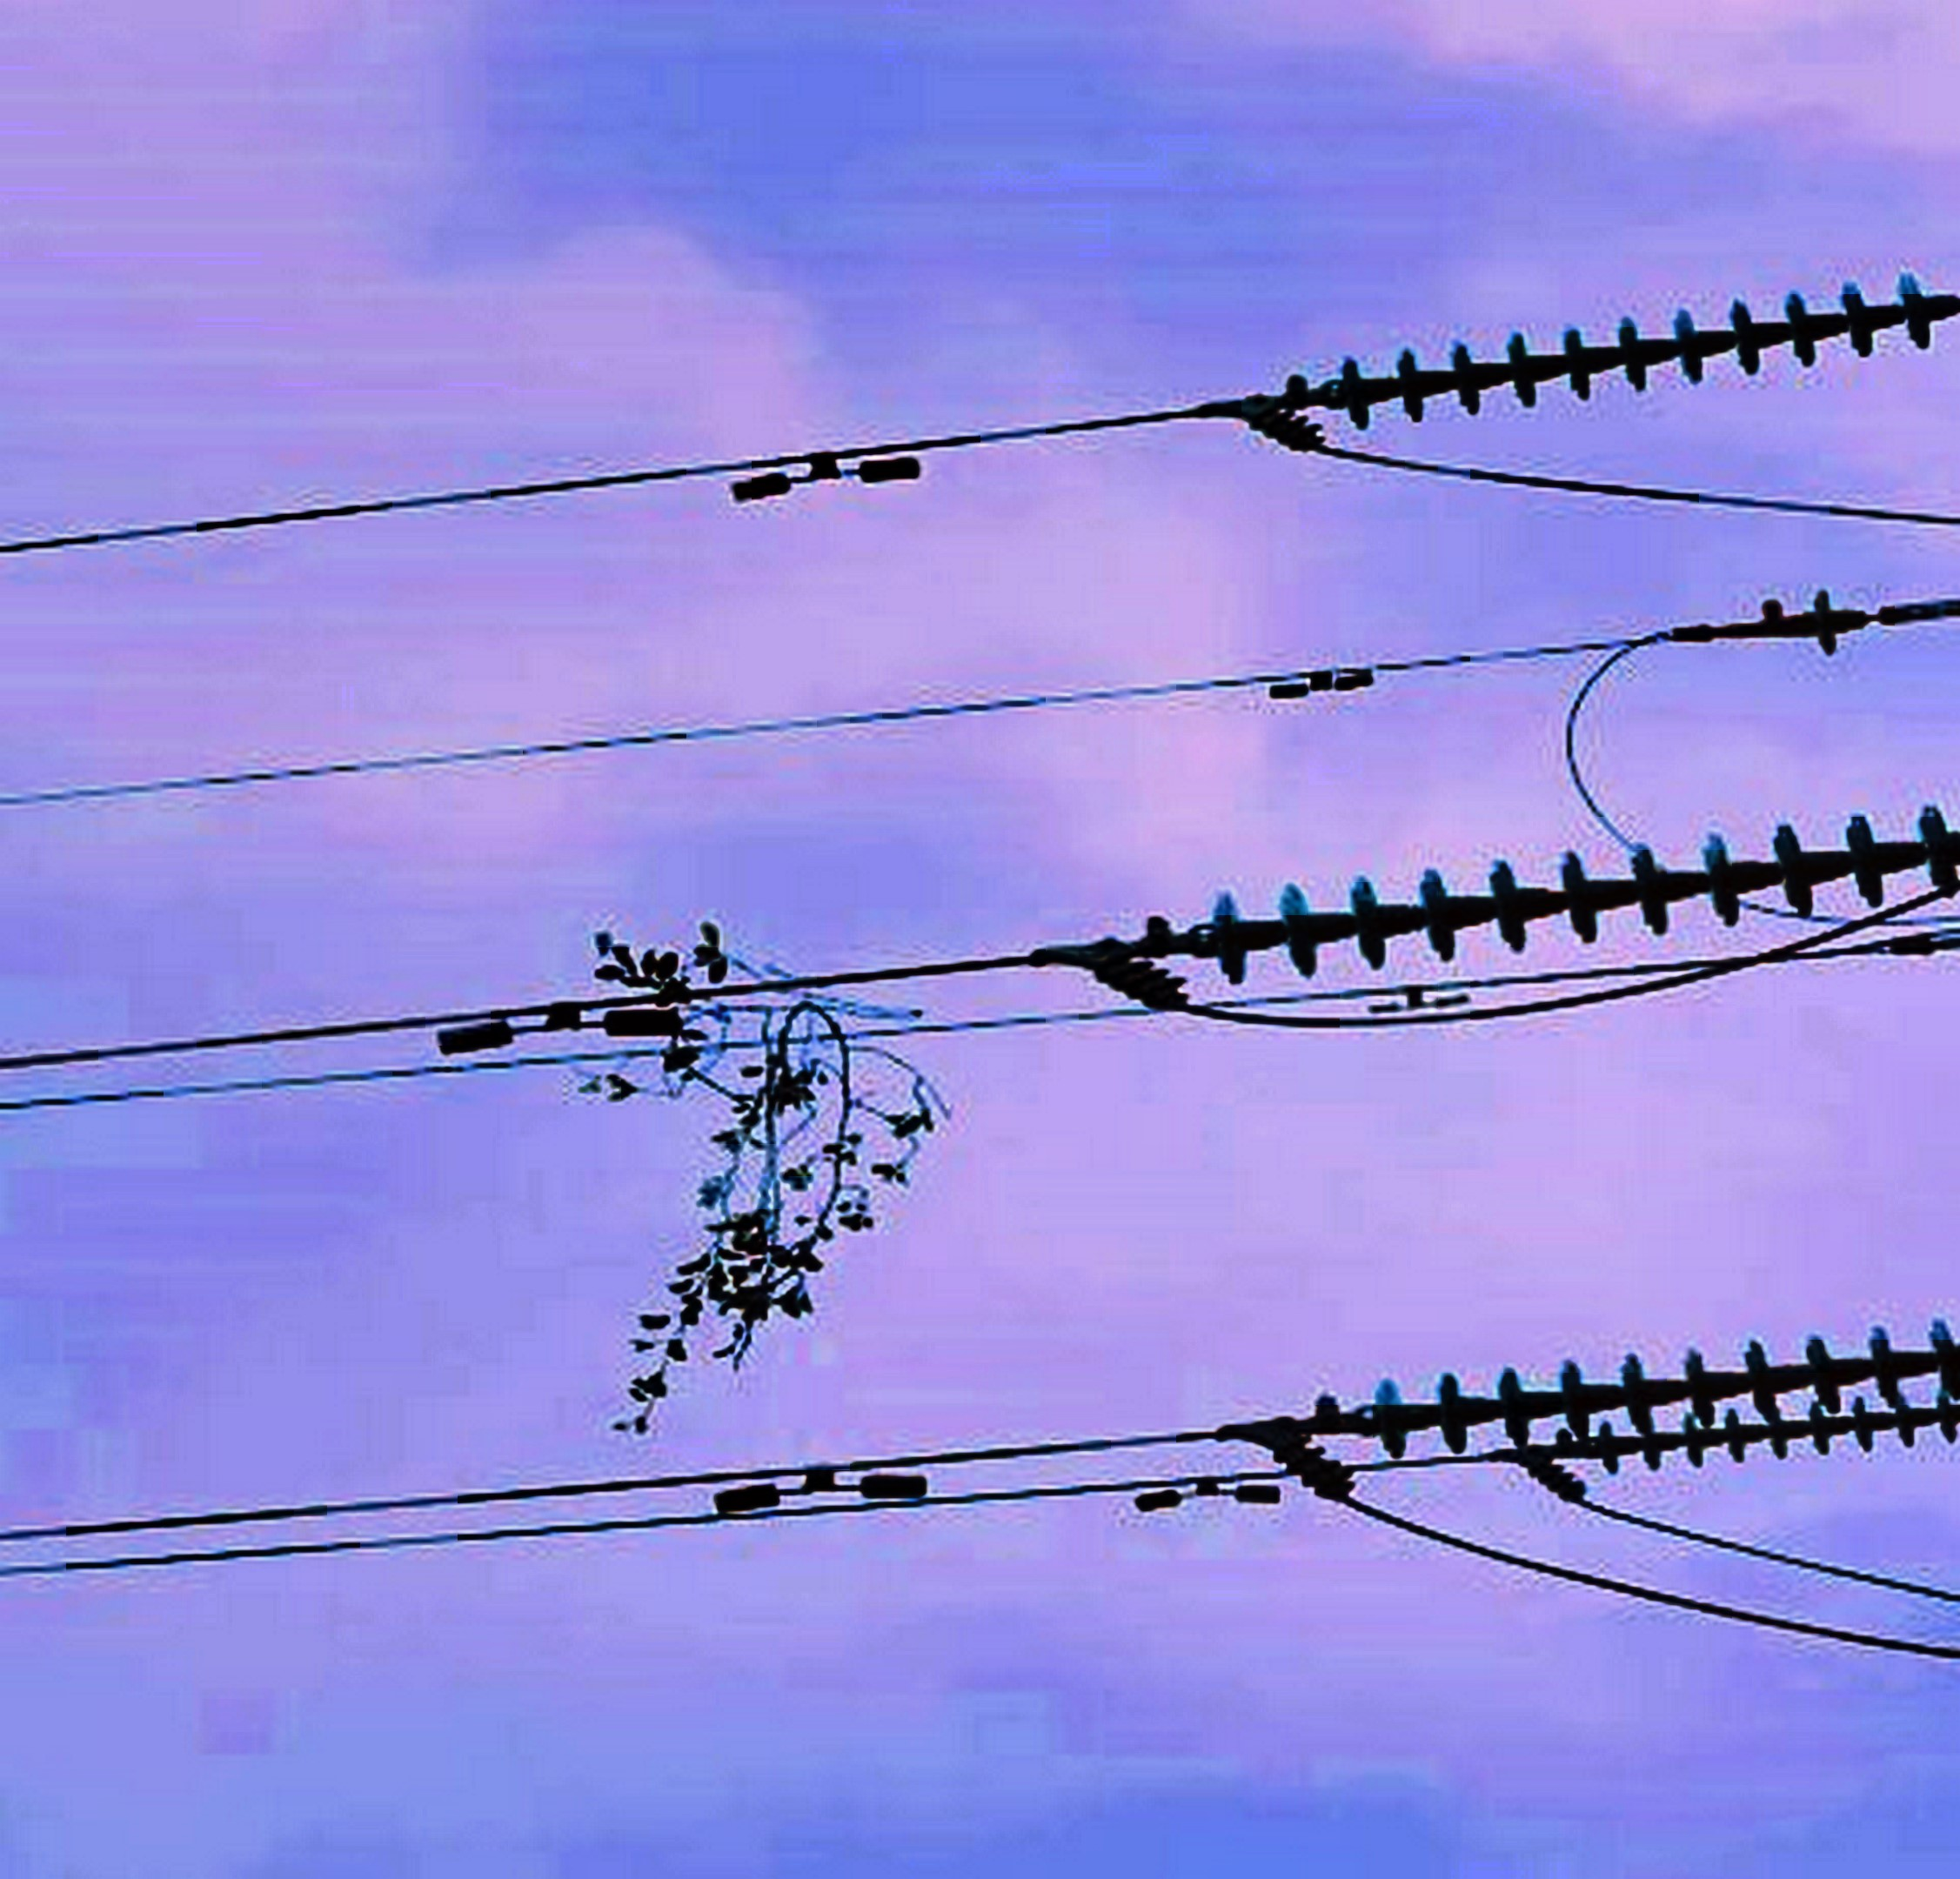wire foreign body: (567, 903, 971, 1421)
